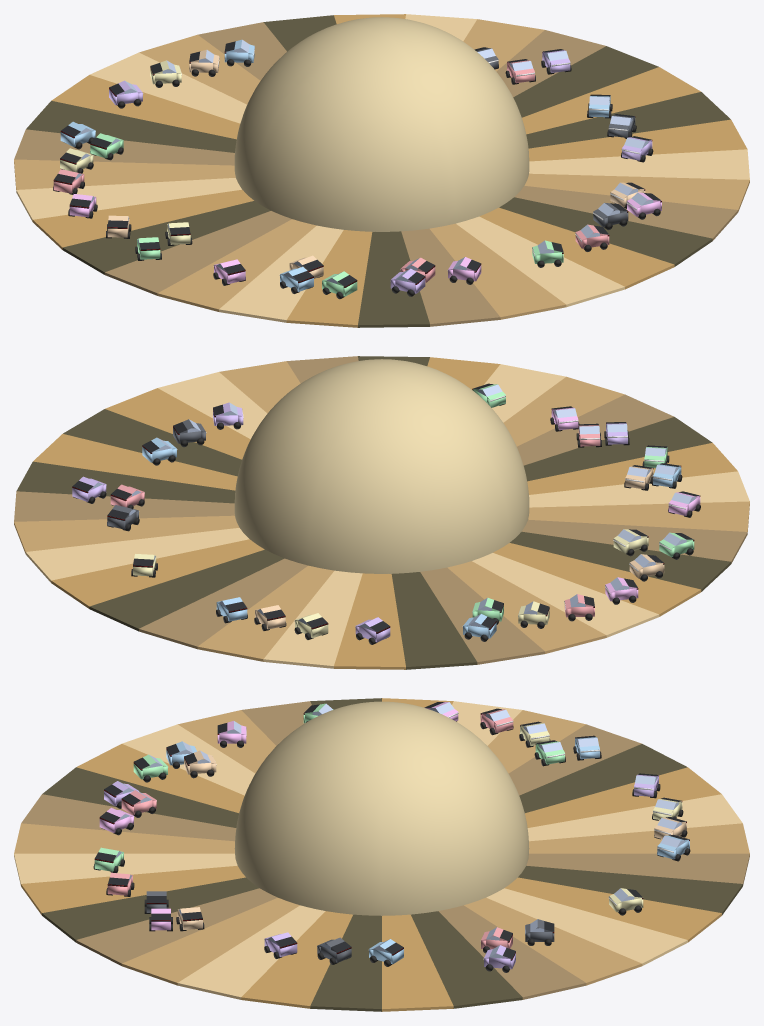
File: car_model.obj
3 views of the same model, one above another, from view 1: azimuth 30°, elevation 25°; view 2: azimuth 150°, elevation 25°; view 3: azimuth 270°, elevation 25° (orthographic).
Size of the model in its own units: 50 by 20 by 50.
